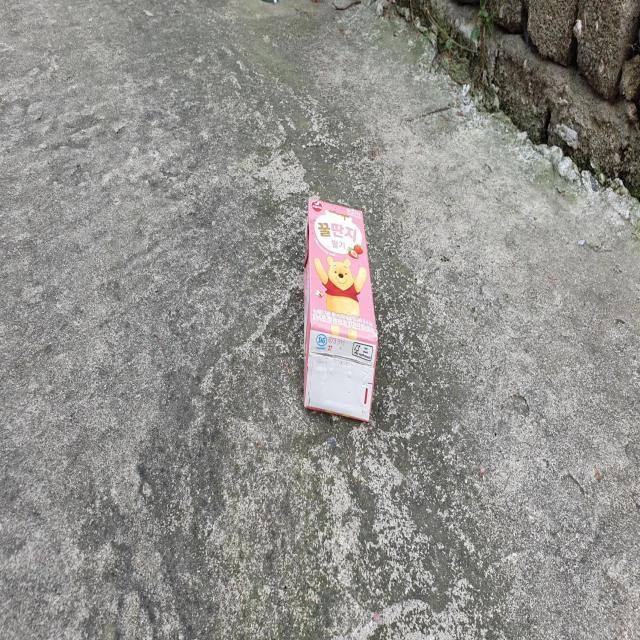paperpack: (303, 196, 378, 421)
